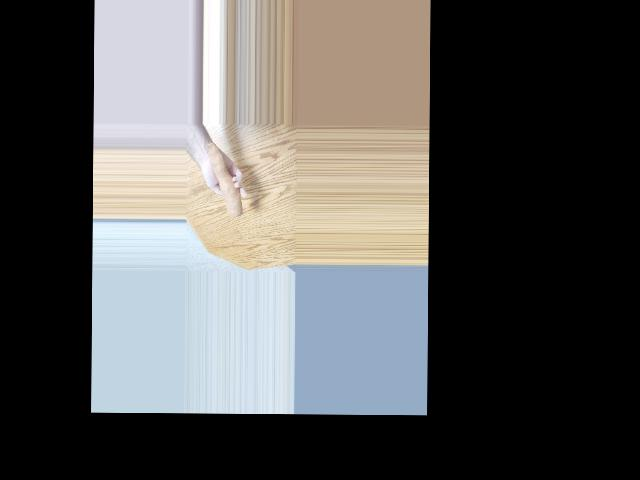sweet_potato: (205, 142, 238, 214)
